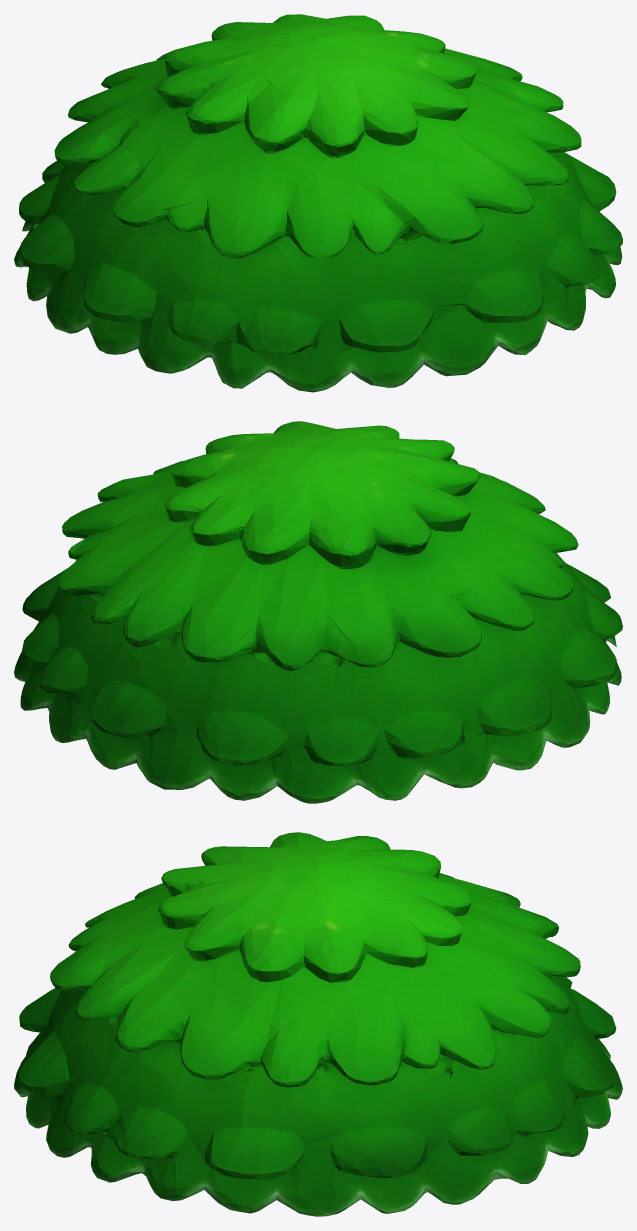
File: bush.glb
The picture shows the model from 3 angles, top to bottom: view 1: azimuth 30°, elevation 25°; view 2: azimuth 150°, elevation 25°; view 3: azimuth 270°, elevation 25°; orthographic projection.
Parts seen in each view (by area): view 1: geometry_0; view 2: geometry_0; view 3: geometry_0.
Part boxes in pixels (x1,y1,x2,y2): geometry_0: [14, 14, 622, 392]; geometry_0: [14, 421, 622, 803]; geometry_0: [14, 832, 622, 1216].
Size of the model in its own units: 0.9975 by 0.4132 by 0.9998.
Materials: 1 (1 with a texture image).
